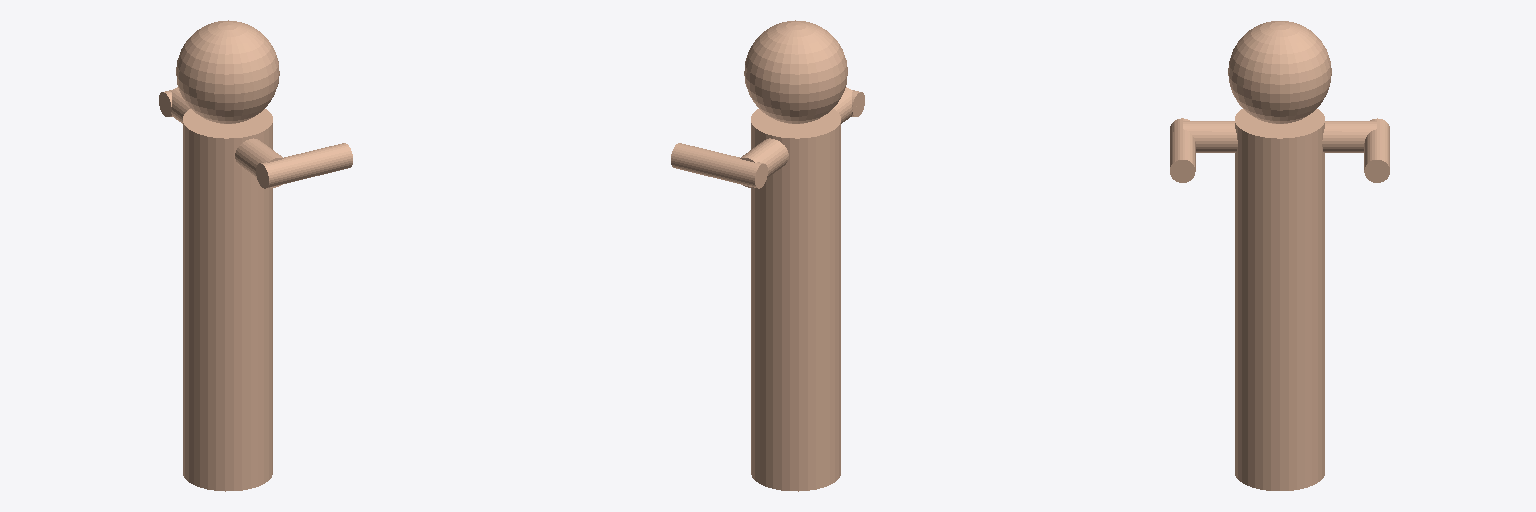
URDF robot description (mannequin):
<?xml version="1.0" ?>
<robot name="mannequin">
  <dynamics damping="1.0" />
  <contact>
    <restitution value="0.01"/>
    <lateral_friction value="0.5"/>
    <rolling_friction value="0.5"/>
    <contact_cfm value="0.0"/>
    <contact_erp value="1.0"/>
  </contact>
  <material name="peach">
    <color rgba="0.9 0.75 0.65 1"/>
  </material>
  <link name="world"/>
  <joint name="robot_to_world" type="fixed">
    <parent link="world"/>
    <child link="torso"/>
    <origin xyz="0 0 0" rpy="0 0 0"/>
  </joint>
  <link name="torso">
    <inertial>
      <mass value="0.150"/>
      <inertia ixx="1.0" ixy="0.0" ixz="0.0" iyy="1.0" iyz="0.0" izz="1.0"/>
    </inertial>
    <visual>
      <origin  xyz="0 0 0" rpy="0 0 0"/>
      <geometry>
        <cylinder length="0.6" radius="0.07"/>
      </geometry>
      <material name="peach"/>
    </visual>
    <collision>
      <origin xyz="0 0 0" rpy="0 0 0"/>
      <geometry>
        <cylinder length="0.6" radius="0.07"/>
      </geometry>
    </collision>
  </link>
  <joint name="head_joint" type="revolute">
    <parent link="torso"/>
    <child link="head"/>
    <origin xyz="0 0 0.38" rpy="0 0 0"/>
    <axis xyz="0 0 1"/>
    <safety_controller k_position="100.0" k_velocity="40.0" soft_lower_limit="-2.8973" soft_upper_limit="2.8973"/>
    <limit effort="87" lower="-2.8973" upper="2.8973" velocity="2.1750"/>
    <dynamics damping="1.0"/>
  </joint>
  <link name="head">
    <inertial>
      <origin xyz="0 0 0" rpy="0 0 0" />
      <mass value="0.150"/>
      <inertia ixx="1" ixy="0.0" ixz="0.0" iyy="1" iyz="0.0" izz="1"/>
    </inertial>
    <visual>
      <origin xyz="0 0 0" rpy="0 0 0" />
      <geometry>
        <sphere radius="0.08"/>
      </geometry>
      <material name="peach"/>
    </visual>
    <collision>
      <origin xyz="0 0 0" rpy="0 0 0" />
      <geometry>
        <sphere radius="0.08"/>
      </geometry>
    </collision>
  </link>
  <!-- /////////////// Right shoulder and arm /////////////////// -->
  <joint name="right_shoulder_joint" type="fixed">
    <parent link="torso"/>
    <child link="right_shoulder"/>
    <origin xyz="0 -0.1 0.27" rpy="1.57 0 0"/>
  </joint>
  <link name="right_shoulder">
    <inertial>
      <mass value="0.150"/>
      <inertia ixx="1.0" ixy="0.0" ixz="0.0" iyy="1.0" iyz="0.0" izz="1.0"/>
    </inertial>
    <visual>
      <origin  xyz="0 0 0" rpy="0 0 0"/>
      <geometry>
        <cylinder length="0.1" radius="0.025"/>
      </geometry>
      <material name="peach"/>
    </visual>
    <collision>
      <origin xyz="0 0 0" rpy="0 0 0"/>
      <geometry>
        <cylinder length="0.1" radius="0.025"/>
      </geometry>
    </collision>
  </link>
  <joint name="right_arm_joint" type="fixed">
    <parent link="right_shoulder"/>
    <child link="right_arm"/>
    <origin xyz="0.05 0 0.05" rpy="1.57 0 1.57"/>
  </joint>
  <link name="right_arm">
    <inertial>
      <mass value="0.150"/>
      <inertia ixx="1.0" ixy="0.0" ixz="0.0" iyy="1.0" iyz="0.0" izz="1.0"/>
    </inertial>
    <visual>
      <origin  xyz="0 0 0" rpy="0 0 0"/>
      <geometry>
        <cylinder length="0.15" radius="0.02"/>
      </geometry>
      <material name="peach"/>
    </visual>
    <collision>
      <origin xyz="0 0 0" rpy="0 0 0"/>
      <geometry>
        <cylinder length="0.15" radius="0.02"/>
      </geometry>
    </collision>
  </link>
  <!-- /////////////// Left shoulder and arm /////////////////// -->
  <joint name="left_shoulder_joint" type="fixed">
    <parent link="torso"/>
    <child link="left_shoulder"/>
    <origin xyz="0 0.1 0.27" rpy="1.57 0 0"/>
  </joint>
  <link name="left_shoulder">
    <inertial>
      <mass value="0.150"/>
      <inertia ixx="1.0" ixy="0.0" ixz="0.0" iyy="1.0" iyz="0.0" izz="1.0"/>
    </inertial>
    <visual>
      <origin  xyz="0 0 0" rpy="0 0 0"/>
      <geometry>
        <cylinder length="0.1" radius="0.025"/>
      </geometry>
      <material name="peach"/>
    </visual>
    <collision>
      <origin xyz="0 0 0" rpy="0 0 0"/>
      <geometry>
        <cylinder length="0.1" radius="0.025"/>
      </geometry>
    </collision>
  </link>
  <joint name="left_arm_joint" type="fixed">
    <parent link="left_shoulder"/>
    <child link="left_arm"/>
    <origin xyz="0.05 0 -0.05" rpy="1.57 0 1.57"/>
  </joint>
  <link name="left_arm">
    <inertial>
      <mass value="0.150"/>
      <inertia ixx="1.0" ixy="0.0" ixz="0.0" iyy="1.0" iyz="0.0" izz="1.0"/>
    </inertial>
    <visual>
      <origin  xyz="0 0 0" rpy="0 0 0"/>
      <geometry>
        <cylinder length="0.15" radius="0.02"/>
      </geometry>
      <material name="peach"/>
    </visual>
    <collision>
      <origin xyz="0 0 0" rpy="0 0 0"/>
      <geometry>
        <cylinder length="0.15" radius="0.02"/>
      </geometry>
    </collision>
  </link>
</robot>

--- Facts derived from the render (not from the file) ---
3 views of the same robot in one strip: view 1: azimuth 30°, elevation 25°; view 2: azimuth 150°, elevation 25°; view 3: azimuth 270°, elevation 25° (orthographic).
Robot: mannequin — 7 links, 6 joints (1 revolute, 5 fixed); root link world; default pose: all joints at 0.
Links seen in each view (by area): view 1: torso, head, right_arm, right_shoulder; view 2: torso, head, left_arm, left_shoulder; view 3: torso, head, left_shoulder, right_shoulder, right_arm, left_arm.
Link boxes in pixels (x1=…): torso: x1=183, y1=109, x2=272, y2=491; head: x1=176, y1=20, x2=279, y2=123; right_arm: x1=256, y1=143, x2=352, y2=188; right_shoulder: x1=235, y1=138, x2=283, y2=187; torso: x1=751, y1=109, x2=840, y2=491; head: x1=744, y1=20, x2=847, y2=123; left_arm: x1=671, y1=143, x2=767, y2=188; left_shoulder: x1=740, y1=138, x2=788, y2=187; torso: x1=1235, y1=109, x2=1324, y2=490; head: x1=1228, y1=21, x2=1331, y2=123; left_shoulder: x1=1322, y1=121, x2=1376, y2=152; right_shoulder: x1=1183, y1=121, x2=1237, y2=152; right_arm: x1=1170, y1=118, x2=1195, y2=182; left_arm: x1=1364, y1=118, x2=1389, y2=182.
Size in the robot's own frame: 0.205 by 0.3401 by 0.76 metres.
Geometry: primitives only (box / cylinder / sphere), no mesh files.